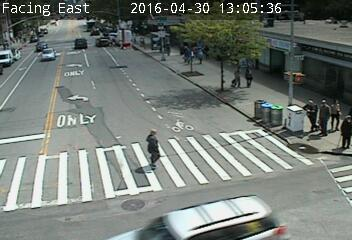neg: (117, 28, 130, 46), (159, 37, 172, 54), (137, 34, 148, 49), (2, 30, 12, 44), (102, 20, 112, 34), (15, 28, 24, 41), (92, 25, 100, 36)
pos: (136, 127, 169, 171), (310, 98, 339, 137), (325, 98, 350, 132), (300, 99, 325, 132), (335, 112, 351, 149), (229, 63, 248, 88), (242, 63, 258, 85), (178, 43, 194, 65), (192, 45, 207, 65)
